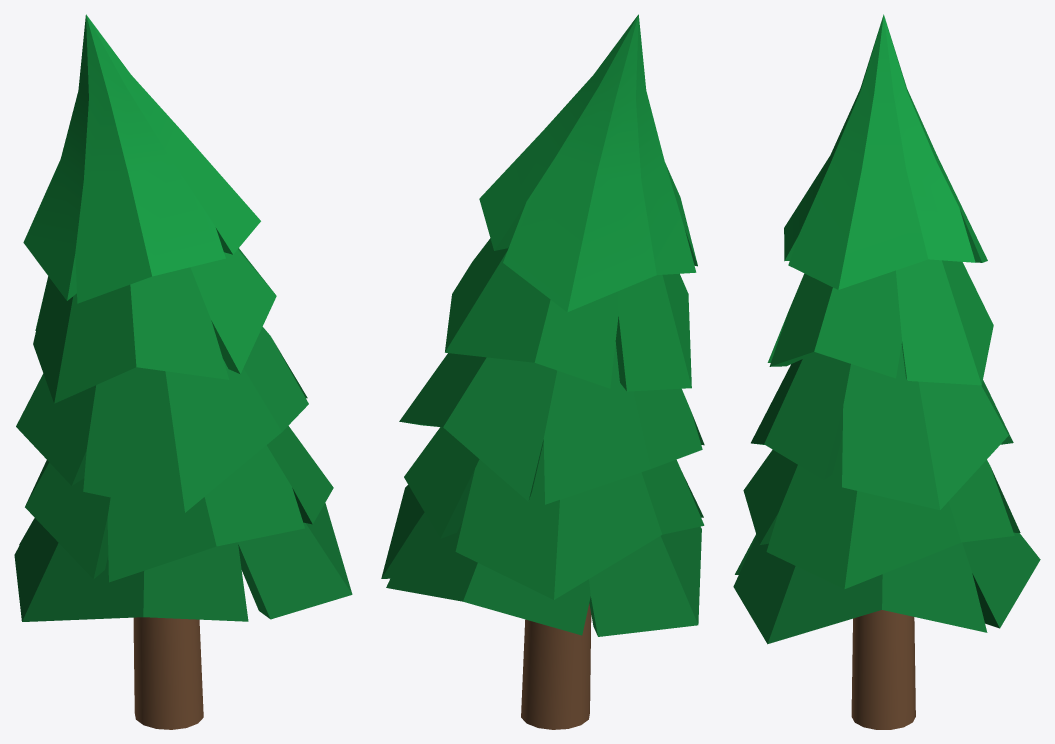
Rendered from Spruce_DarkGreen_Thin_2.fbx.
3 renders of one model, left to right at view 1: azimuth 30°, elevation 25°; view 2: azimuth 150°, elevation 25°; view 3: azimuth 270°, elevation 25°, orthographic. The views are drawn at different scales.
Parts seen in each view (by area): view 1: Cylinder.071, Cylinder.072, Cylinder.073, Cylinder.075, Cylinder.074, Cylinder.076; view 2: Cylinder.071, Cylinder.072, Cylinder.074, Cylinder.073, Cylinder.075, Cylinder.076; view 3: Cylinder.071, Cylinder.072, Cylinder.074, Cylinder.073, Cylinder.075, Cylinder.076.
Part boxes in pixels (left/top/right/bottom): Cylinder.071: left=23, top=14, right=260, bottom=303; Cylinder.072: left=16, top=327, right=308, bottom=512; Cylinder.073: left=33, top=248, right=276, bottom=403; Cylinder.075: left=14, top=503, right=352, bottom=621; Cylinder.074: left=25, top=426, right=333, bottom=582; Cylinder.076: left=133, top=617, right=203, bottom=729; Cylinder.071: left=479, top=14, right=697, bottom=312; Cylinder.072: left=399, top=342, right=704, bottom=504; Cylinder.074: left=404, top=427, right=704, bottom=599; Cylinder.073: left=445, top=238, right=691, bottom=391; Cylinder.075: left=381, top=485, right=701, bottom=636; Cylinder.076: left=521, top=603, right=591, bottom=729; Cylinder.071: left=784, top=14, right=987, bottom=289; Cylinder.072: left=751, top=345, right=1013, bottom=509; Cylinder.074: left=743, top=436, right=1020, bottom=589; Cylinder.073: left=767, top=259, right=993, bottom=385; Cylinder.075: left=733, top=532, right=1040, bottom=644; Cylinder.076: left=851, top=610, right=915, bottom=729.
Bounding box in the file's own units: 244 × 568 × 238.
